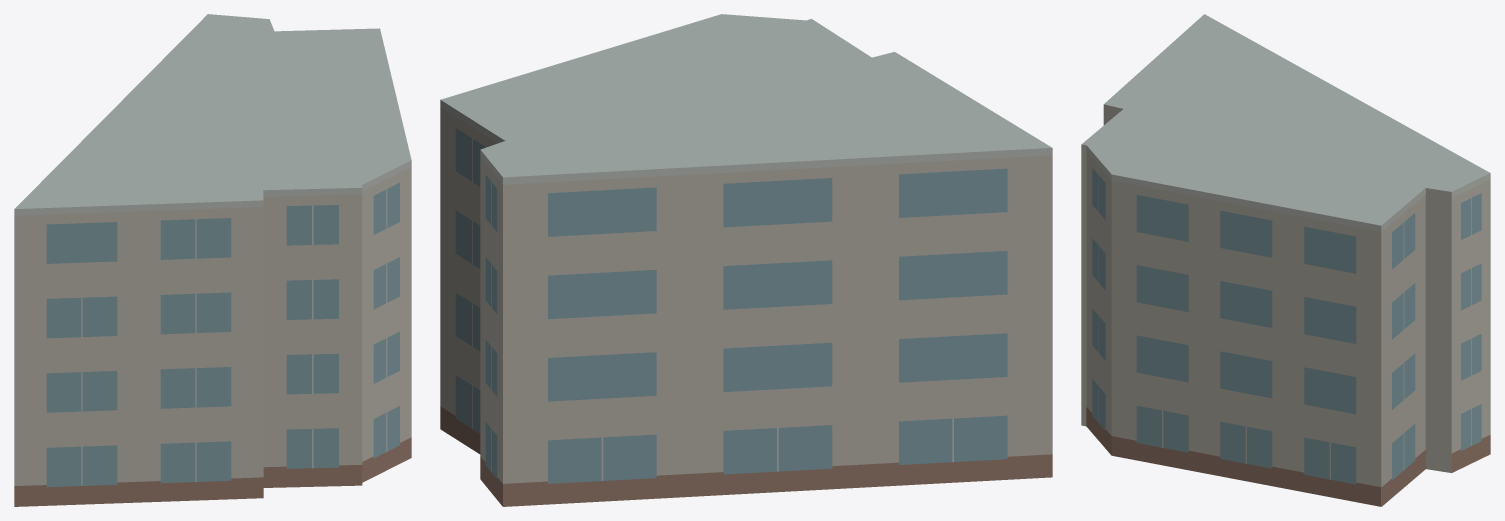
Rendered from survey-upis-32489125.glb.
3 views of the same model, side by side, from view 1: azimuth 30°, elevation 25°; view 2: azimuth 150°, elevation 25°; view 3: azimuth 270°, elevation 25° (orthographic). The views are drawn at different scales.
Parts seen in each view (by area): view 1: survey-upis-32489125.tmp; view 2: survey-upis-32489125.tmp; view 3: survey-upis-32489125.tmp.
Part boxes in pixels (x1,y1,x2,y2): survey-upis-32489125.tmp: (14,14,411,506); survey-upis-32489125.tmp: (440,14,1052,506); survey-upis-32489125.tmp: (1081,14,1490,506).
Size of the model in its own units: 17.61 by 10.9 by 14.39.
